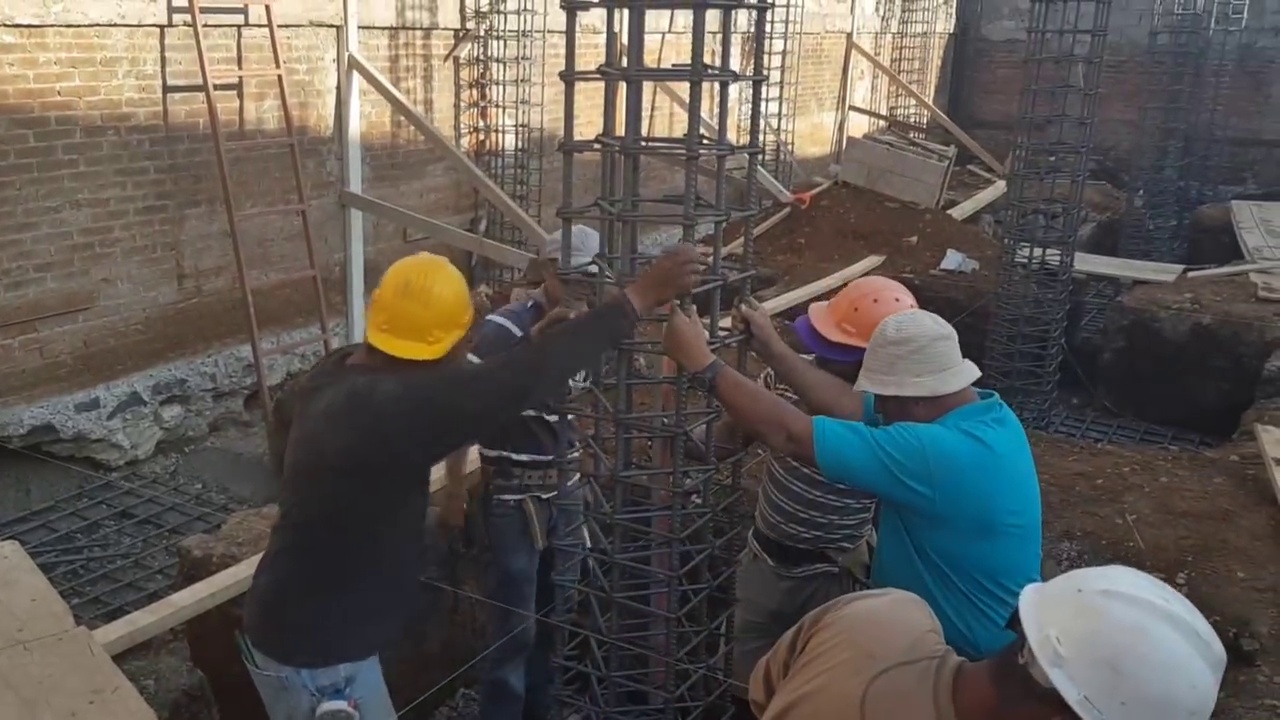helmet: (1015, 565, 1232, 716), (351, 255, 473, 368), (811, 282, 923, 360)
helmet-off: (860, 313, 983, 428), (533, 222, 605, 319)
helmet-on: (945, 562, 1240, 720), (336, 251, 478, 381), (793, 276, 925, 397)
person: (234, 251, 706, 719), (668, 266, 1041, 698), (718, 271, 930, 679), (743, 561, 1238, 718), (468, 217, 612, 710)
